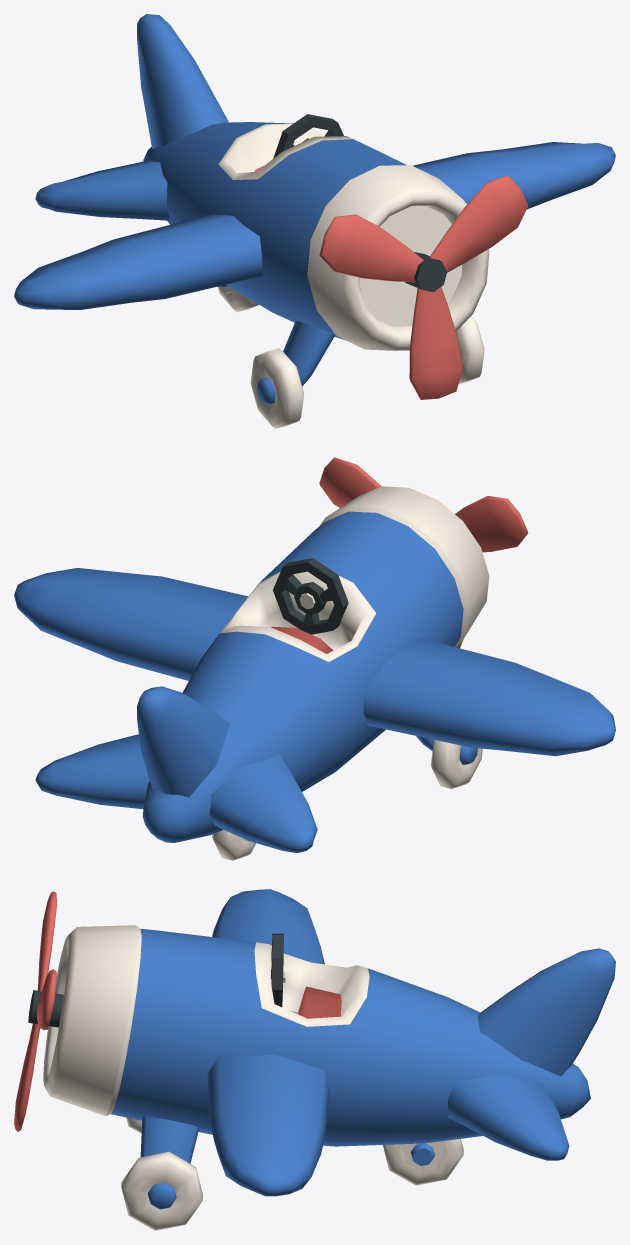
The picture shows the model from 3 angles, top to bottom: view 1: azimuth 30°, elevation 25°; view 2: azimuth 150°, elevation 25°; view 3: azimuth 270°, elevation 25°; orthographic projection.
Parts seen in each view (by area): view 1: Plane_01; view 2: Plane_01; view 3: Plane_01.
Part boxes in pixels (bbox=[...]): Plane_01: bbox=[14, 14, 615, 428]; Plane_01: bbox=[14, 457, 615, 860]; Plane_01: bbox=[14, 889, 615, 1230].
Bounding box in the file's own units: 0.4042 × 0.1589 × 0.3472.
